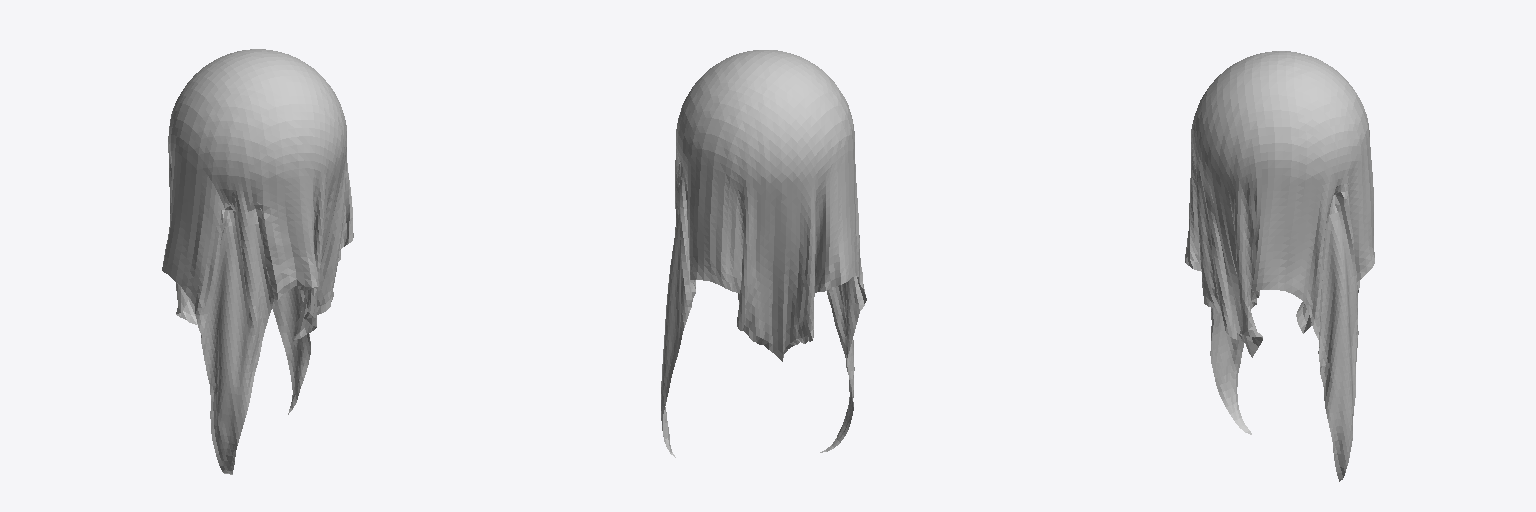
File: ghost1.obj
3 renders of one model, left to right at view 1: azimuth 30°, elevation 25°; view 2: azimuth 150°, elevation 25°; view 3: azimuth 270°, elevation 25°, orthographic.
Parts seen in each view (by area): view 1: Plane.002; view 2: Plane.002; view 3: Plane.002.
Boxes of the visible parts, x1=… form: Plane.002: x1=162, y1=49, x2=353, y2=474; Plane.002: x1=661, y1=50, x2=866, y2=457; Plane.002: x1=1185, y1=51, x2=1374, y2=481.
Size of the model in its own units: 1.52 by 3.32 by 1.45.